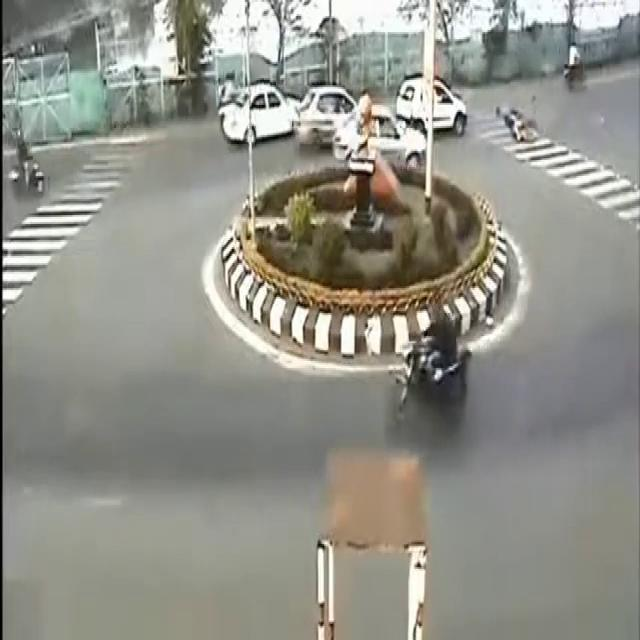accident: (489, 70, 561, 166)
